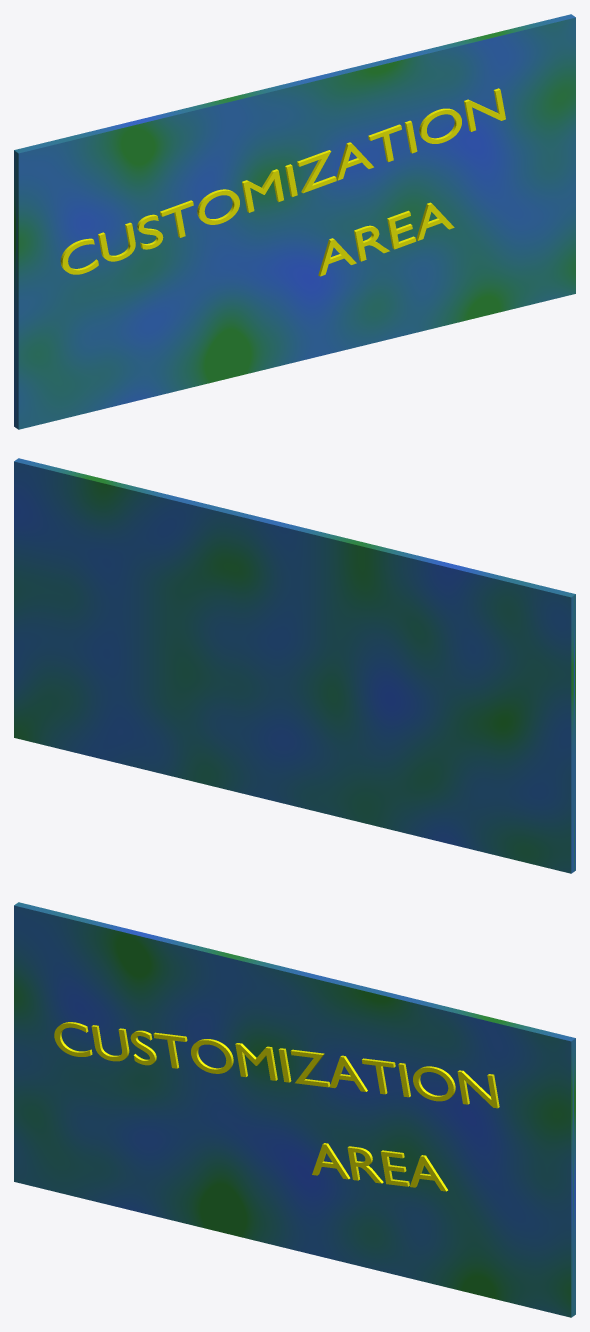
File: CartelloCustomizationArea.fbx
3 views of the same model, one above another, from view 1: azimuth 30°, elevation 25°; view 2: azimuth 150°, elevation 25°; view 3: azimuth 330°, elevation 25° (orthographic).
Visible parts, largest first — view 1: Cartello, Testo; view 2: Cartello; view 3: Cartello, Testo.
Boxes of the visible parts, x1,y1,x2,y2 form: Cartello: [14, 14, 575, 429]; Testo: [60, 88, 505, 276]; Cartello: [14, 458, 575, 873]; Cartello: [14, 902, 575, 1317]; Testo: [54, 1022, 499, 1191].
Bounding box in the file's own units: 1.9 × 0.899 × 0.0378.
Materials: 2 (1 with a texture image).
